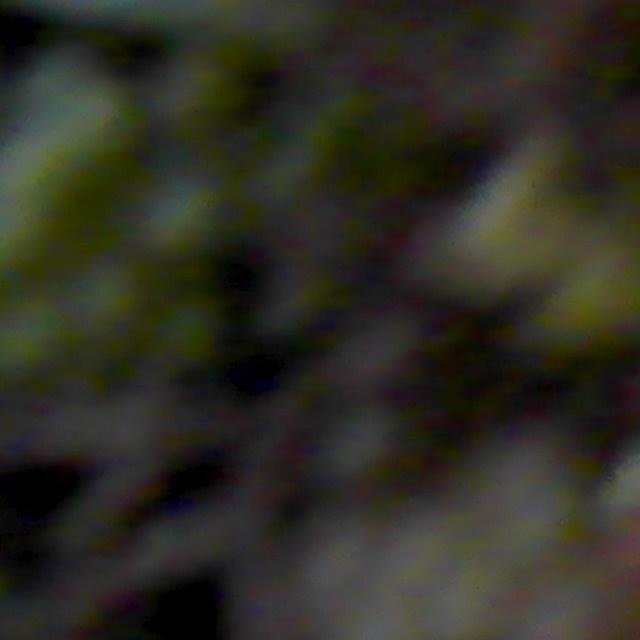SeaGrape: (134, 173, 219, 256), (0, 288, 64, 384), (64, 258, 139, 326)
